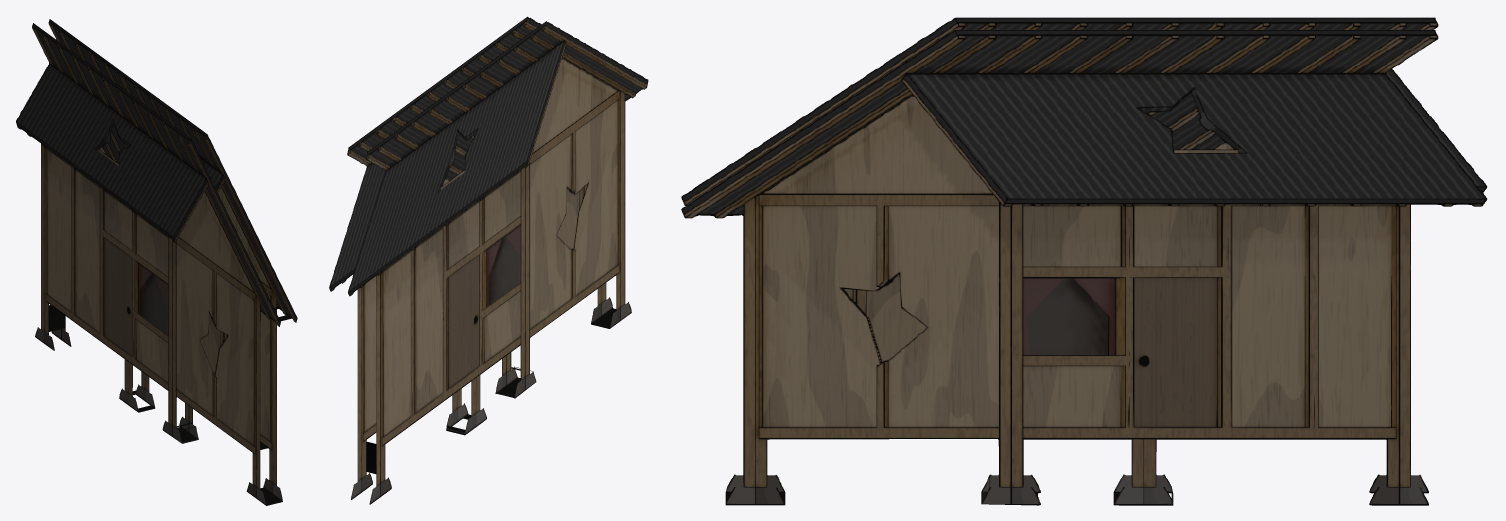
File: Tagog.obj
3 renders of one model, left to right at view 1: azimuth 30°, elevation 25°; view 2: azimuth 150°, elevation 25°; view 3: azimuth 270°, elevation 25°, orthographic. The views are drawn at different scales.
Parts seen in each view (by area): view 1: Tagog2; view 2: Tagog2; view 3: Tagog2.
Part boxes in pixels (x1=…): Tagog2: x1=16, y1=19, x2=297, y2=505; Tagog2: x1=329, y1=16, x2=648, y2=504; Tagog2: x1=681, y1=17, x2=1487, y2=505.
Bounding box in the file's own units: 0.0299 × 0.5455 × 0.8371.
